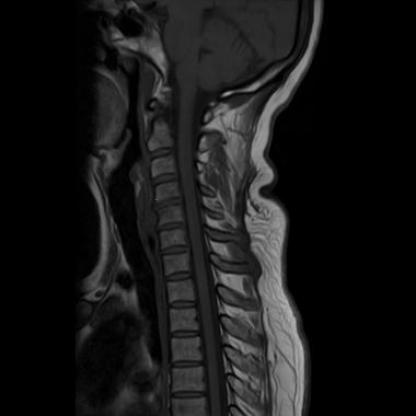Disc Bulgerotation: (157, 219, 186, 234)
Disc Protrusionrotation: (159, 242, 190, 260), (153, 196, 182, 212)
